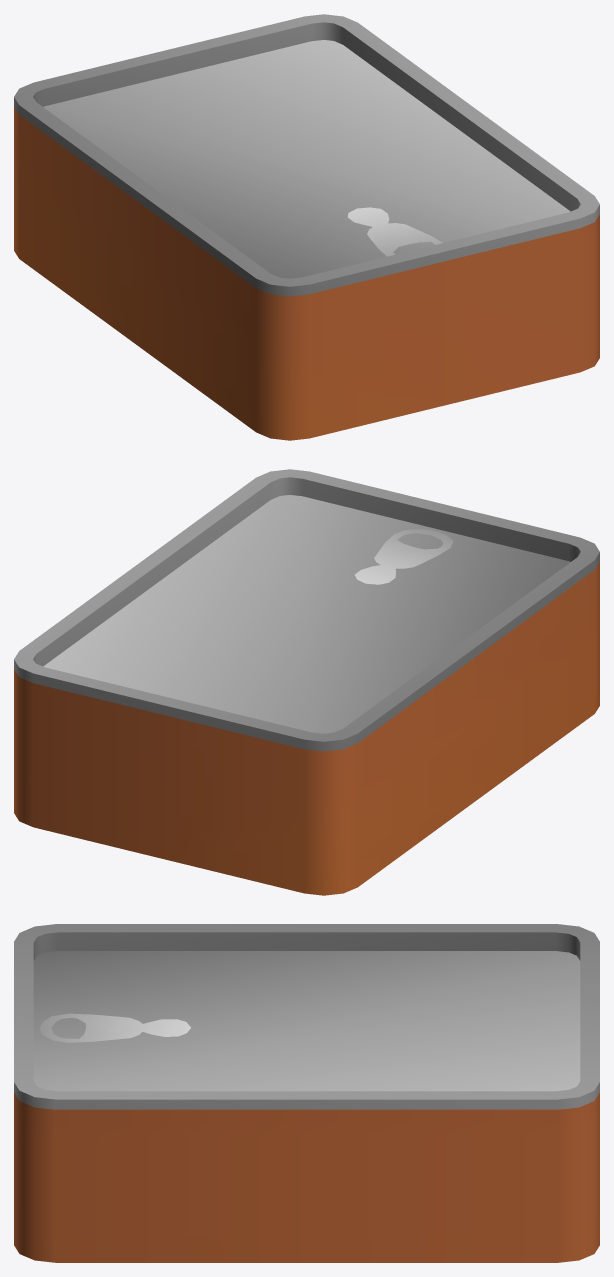
The model's file is Fish Can_4.fbx.
3 views of the same model, one above another, from view 1: azimuth 30°, elevation 25°; view 2: azimuth 150°, elevation 25°; view 3: azimuth 270°, elevation 25° (orthographic). The views are drawn at different scales.
Visible parts, largest first — view 1: Fish Can_4, Fish Can_4 Top; view 2: Fish Can_4, Fish Can_4 Top; view 3: Fish Can_4, Fish Can_4 Top.
Boxes of the visible parts, left/top/right/bottom form: Fish Can_4: left=14, top=14, right=599, bottom=440; Fish Can_4 Top: left=43, top=40, right=570, bottom=278; Fish Can_4: left=14, top=469, right=599, bottom=895; Fish Can_4 Top: left=43, top=495, right=570, bottom=733; Fish Can_4: left=14, top=924, right=599, bottom=1262; Fish Can_4 Top: left=33, top=951, right=580, bottom=1091.
Size of the model in its own units: 0.0994 by 0.0432 by 0.1404.
1 material, 1 textured.
